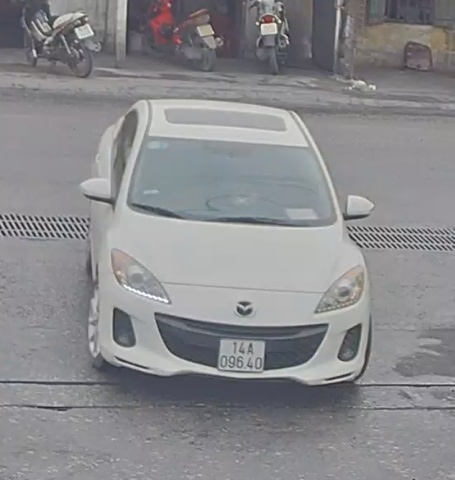vehicle plate: (213, 332, 271, 376)
